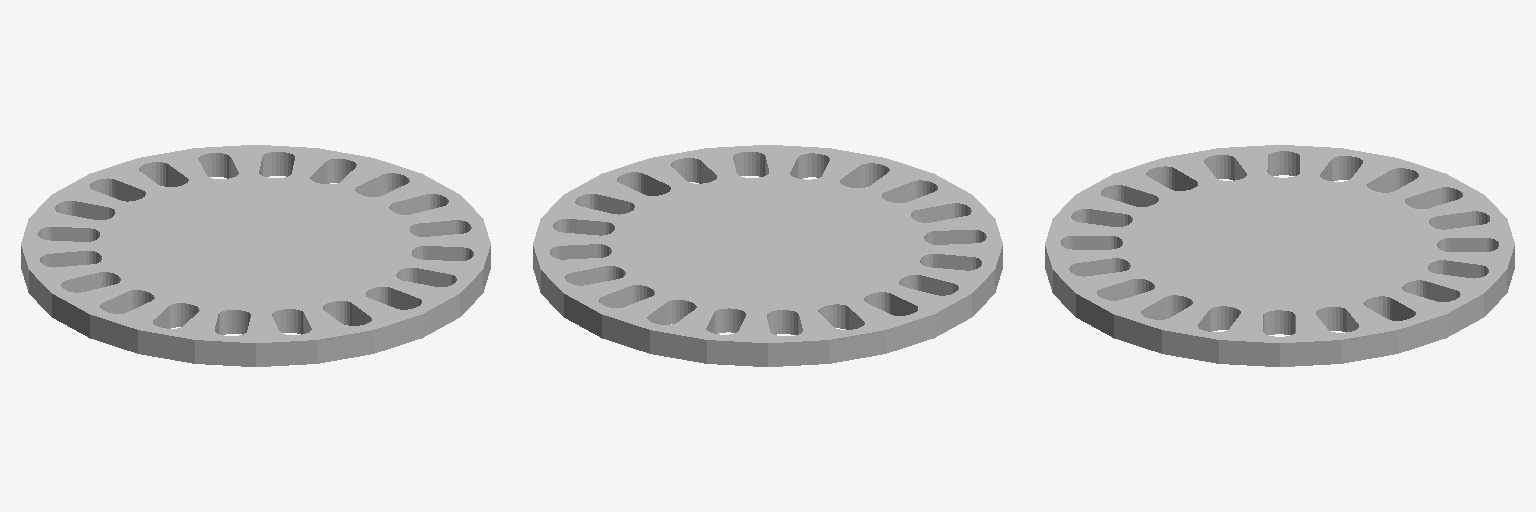
File: disk_tightener_wide_2.obj
3 views of the same model, side by side, from view 1: azimuth 30°, elevation 25°; view 2: azimuth 150°, elevation 25°; view 3: azimuth 270°, elevation 25° (orthographic).
Visible parts, largest first — view 1: Mesh1 Model; view 2: Mesh1 Model; view 3: Mesh1 Model.
Part boxes in pixels (x1,y1,x2,y2): Mesh1 Model: (21,145,490,366); Mesh1 Model: (533,145,1002,366); Mesh1 Model: (1045,145,1514,366).
Size of the model in its own units: 21.12 by 1.19 by 21.12.